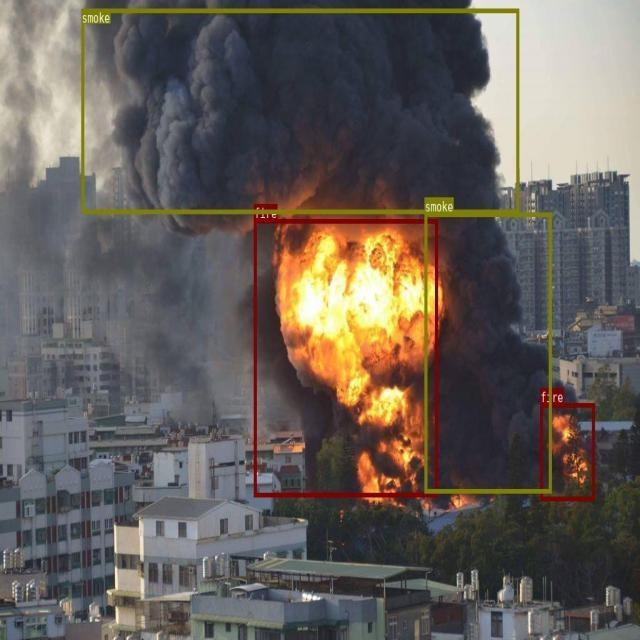fire: (254, 219, 438, 496), (540, 402, 594, 500)
smoke: (81, 8, 519, 212), (424, 212, 551, 492)
